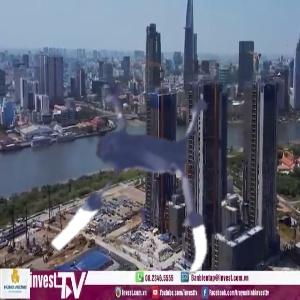drone: (16, 55, 256, 295)
